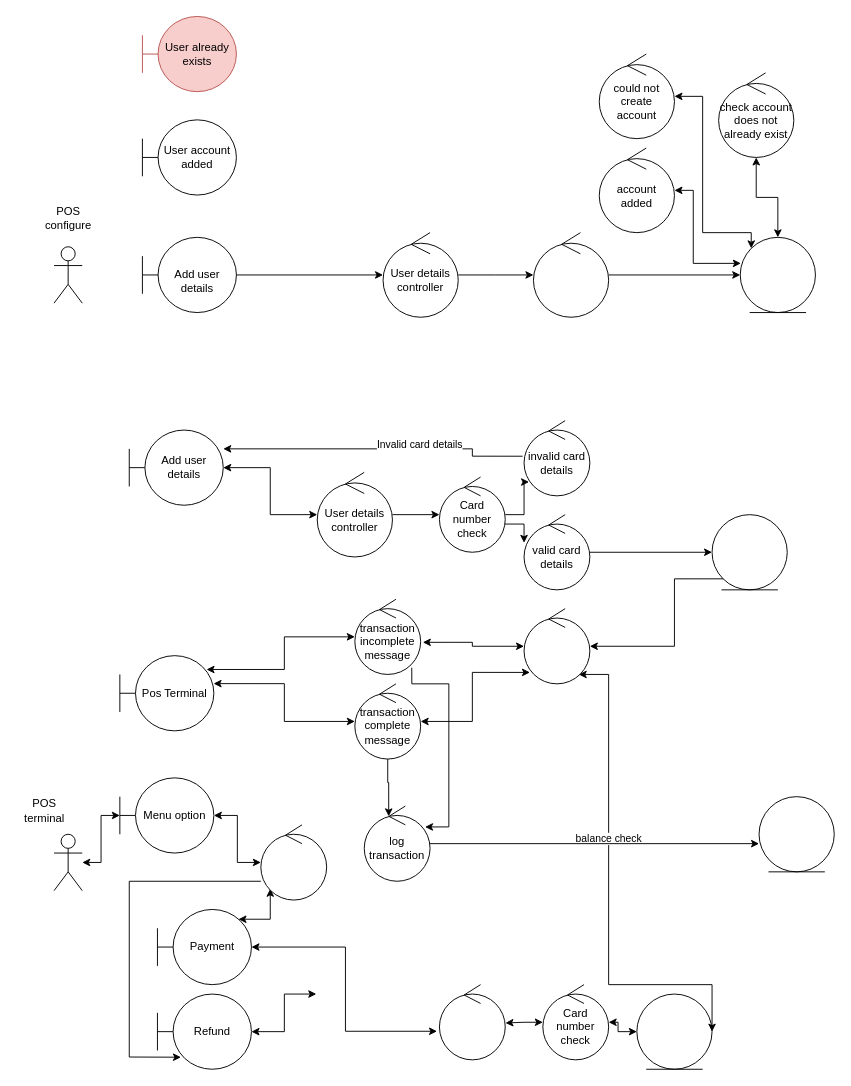
Image size: 851x1086. Some labels were removed from this diagram. Here are the shapes that lost their labels. From the top down, the centre of each, then its label:
point 67,274: Admin
point 571,274: request add account
point 777,274: user accounts database
point 749,552: Transaction
point 556,646: transaction successful?
point 796,834: Transaction logging file
point 67,862: User
point 293,862: input choice
point 472,1022: card details input
point 674,1031: Account
